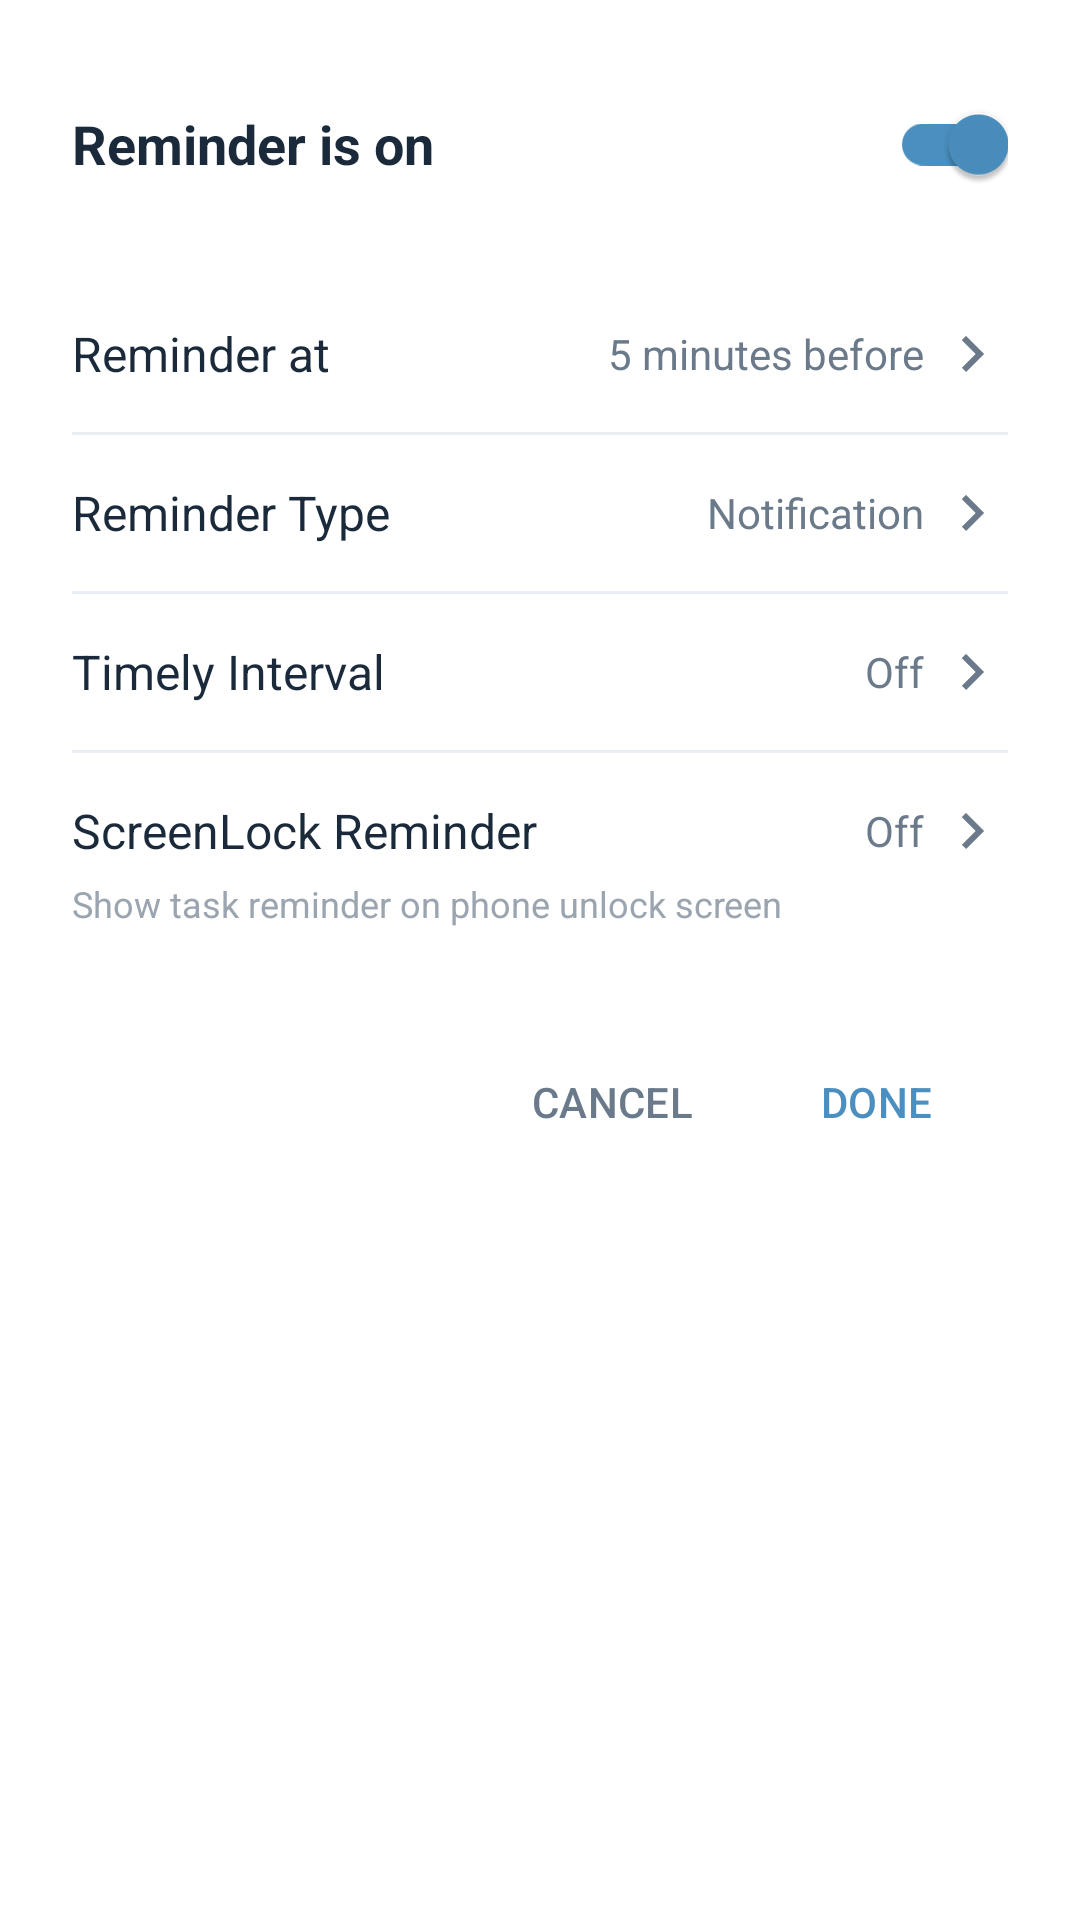

Icon click points for this 1080×1920 phone screenshot, format [x,y]:
arrow right: [973,354], [973,513], [973,672], [973,831]
